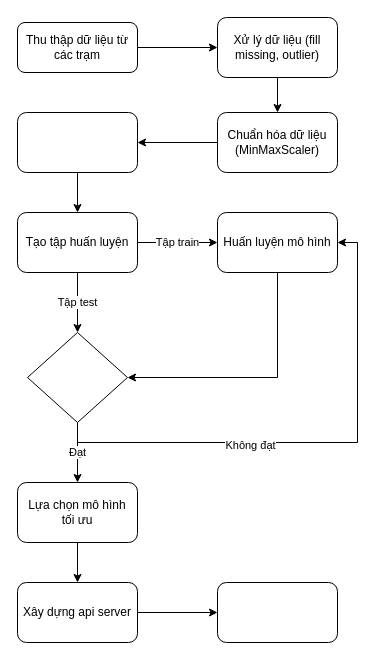
This 383x660 diagram has some shape labels left out. Each missing label, with the centre of its shape:
"Xây dựng các mô hình dự báo" belongs at point 77,142.
"Đánh giá mô hình" belongs at point 77,377.
"Ứng dụng theo dõi chất lượng không khí" belongs at point 277,612.
